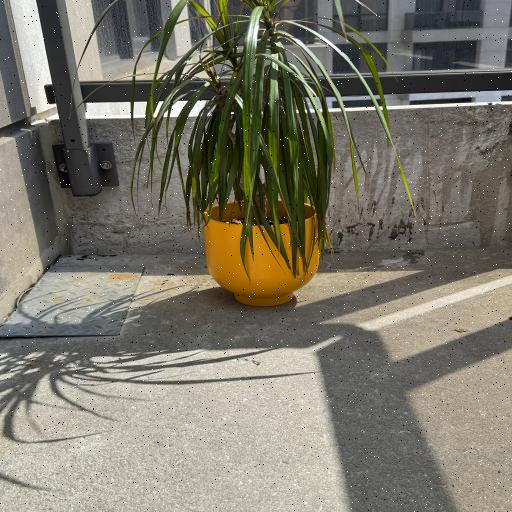Plant Pot: (203, 200, 320, 304)
